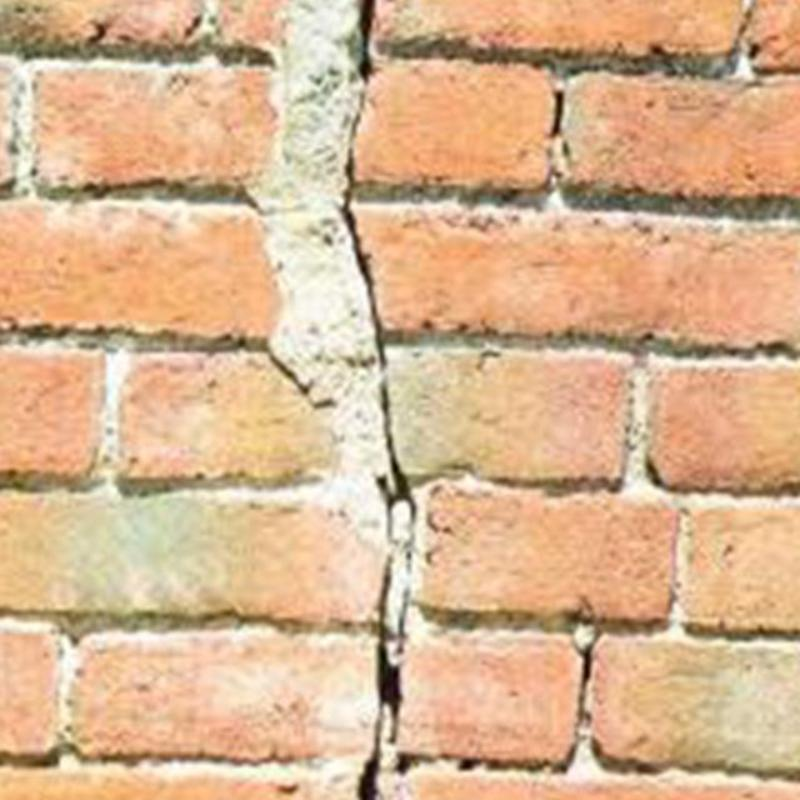pothole: (341, 0, 417, 799), (571, 632, 601, 702), (551, 90, 564, 134)
